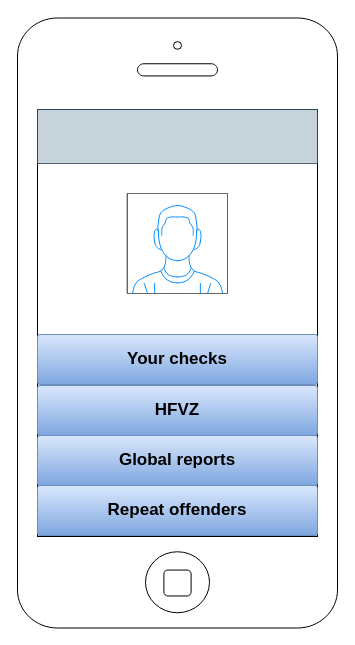
The diagram is 355 pixels wide and 645 high, and some of its shapes have lost their labels. Here are the shapes that lost their labels. From the top down, the centre of each, then its label:
At point 177,136: "Statistics".
At point 177,243: "Mario Rossi".
